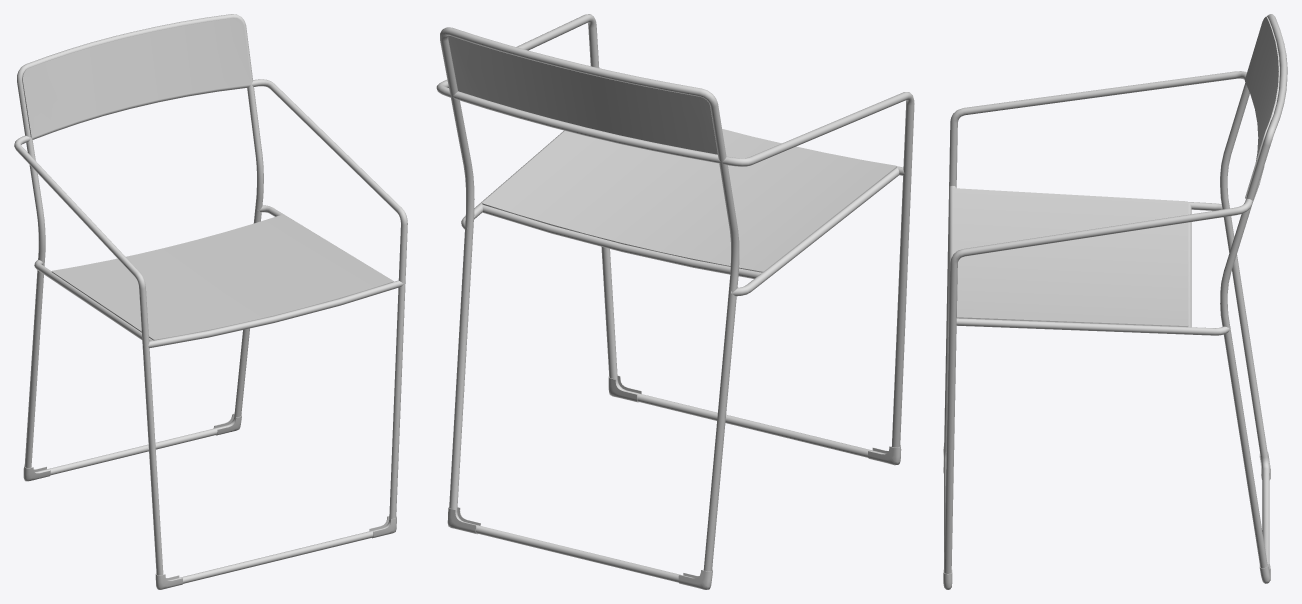
The model's file is Parker_Cafe_Armed_Solid.glb.
The picture shows the model from 3 angles, left to right: view 1: azimuth 30°, elevation 25°; view 2: azimuth 150°, elevation 25°; view 3: azimuth 270°, elevation 25°; orthographic projection. The views are drawn at different scales.
Visible parts, largest first — view 1: Parker_Cafe_Armed_Solid; view 2: Parker_Cafe_Armed_Solid; view 3: Parker_Cafe_Armed_Solid.
Boxes of the visible parts, left/top/right/bottom form: Parker_Cafe_Armed_Solid: left=14, top=14, right=407, bottom=589; Parker_Cafe_Armed_Solid: left=436, top=14, right=914, bottom=589; Parker_Cafe_Armed_Solid: left=943, top=14, right=1287, bottom=589.
Bounding box in the file's own units: 0.5418 × 0.8016 × 0.5462.
1 material, 1 textured.
